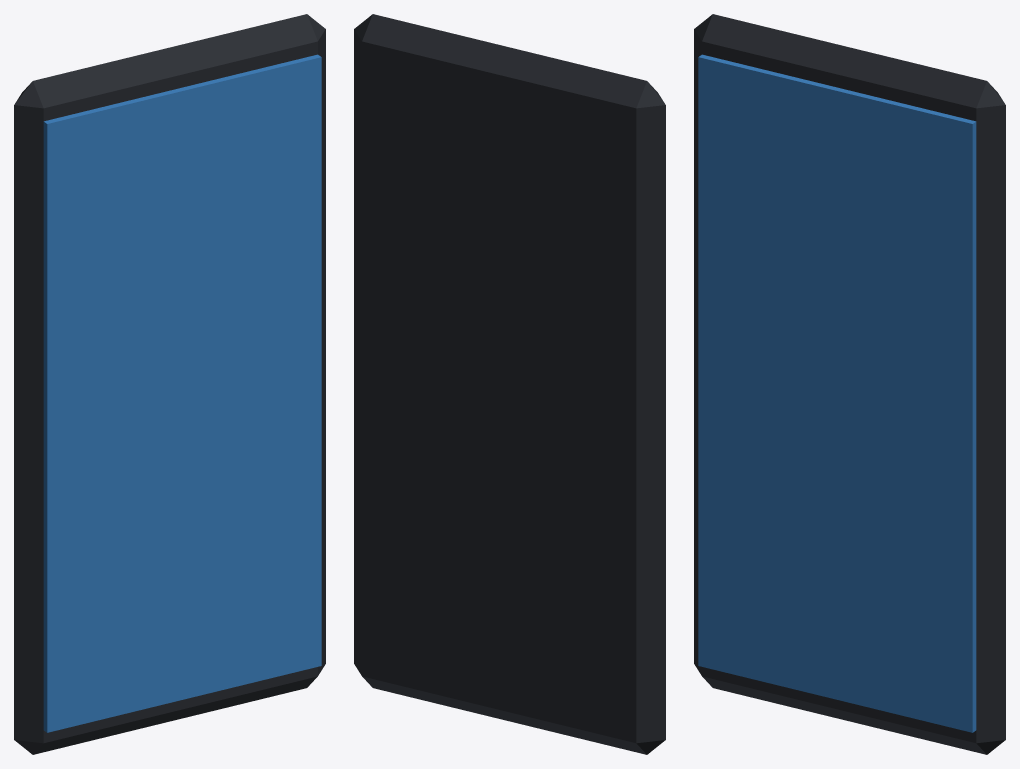
Rendered from PRP_Phone.fbx.
The picture shows the model from 3 angles, left to right: view 1: azimuth 30°, elevation 25°; view 2: azimuth 150°, elevation 25°; view 3: azimuth 330°, elevation 25°; orthographic projection.
Parts seen in each view (by area): view 1: PRP_Phone; view 2: PRP_Phone; view 3: PRP_Phone.
Boxes of the visible parts, <box> form: PRP_Phone: <box>14,14,325,754</box>; PRP_Phone: <box>354,14,665,754</box>; PRP_Phone: <box>694,14,1005,754</box>.
Size of the model in its own units: 0.075 by 0.155 by 0.0105.
